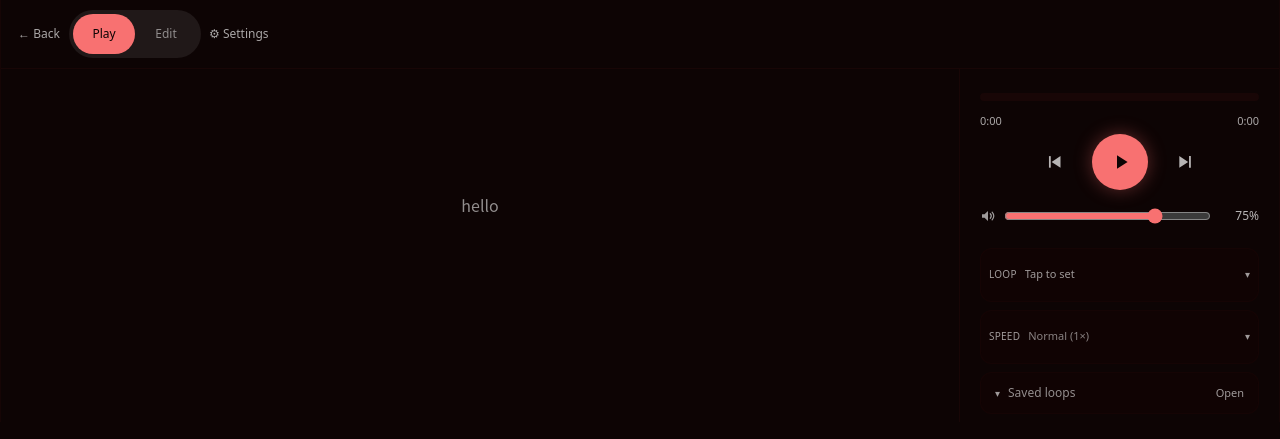
Test: PlayerView local audio gating › offers Auto-align once audioStoredPath is present
This screenshot has width=1280, height=439.
Expected: the text "hello" is shown, [461, 193, 499, 217]
Step 1. Click the button "Edit" → (166,34), box [135, 14, 197, 54]
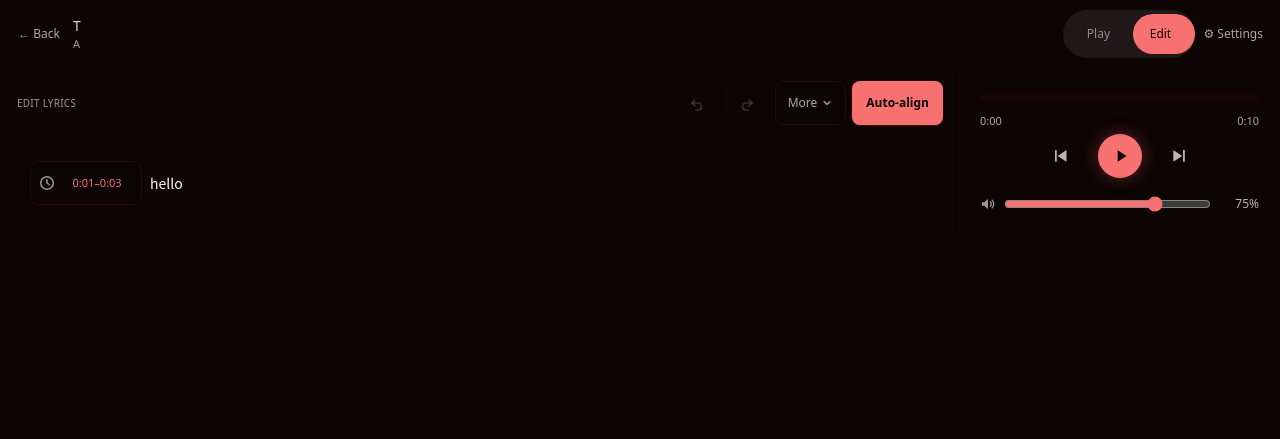
Expected: the button "Auto-align" is shown, [852, 81, 943, 125]
